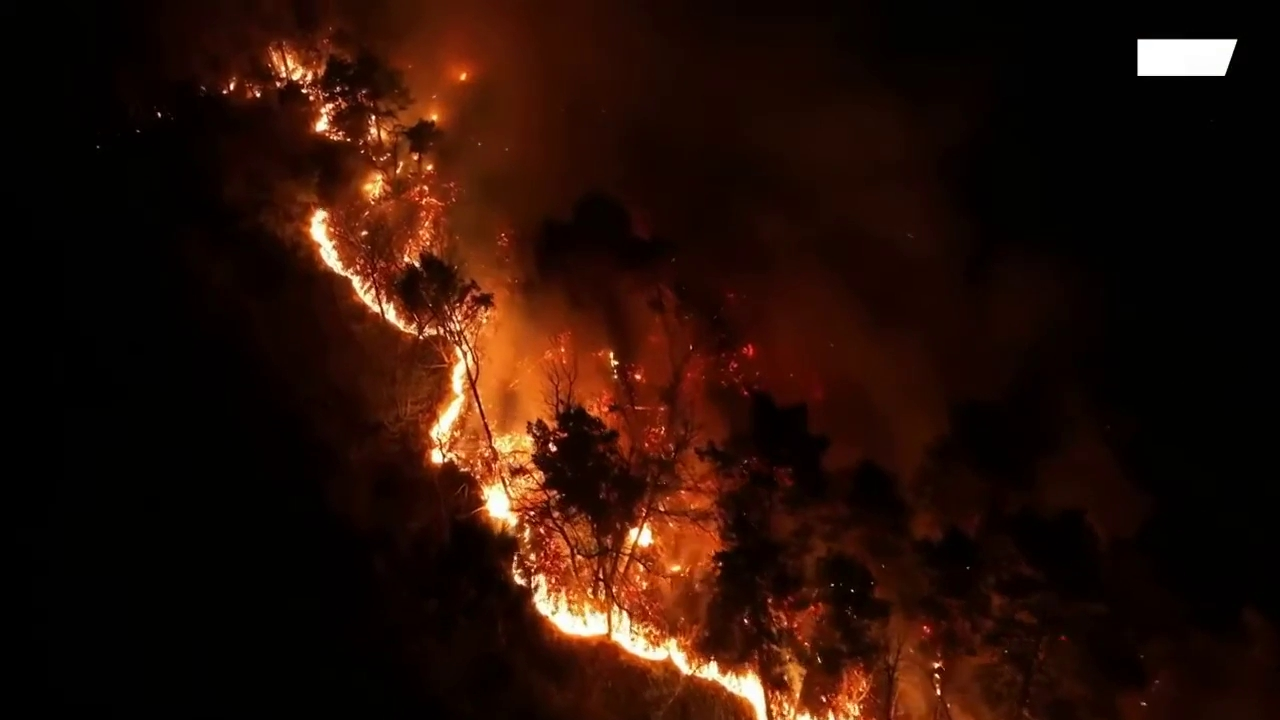forest_fire: (512, 551, 869, 719), (309, 208, 415, 334), (428, 348, 482, 469), (270, 49, 336, 138), (478, 470, 531, 532), (494, 434, 531, 460), (624, 524, 654, 548), (362, 176, 385, 199)
